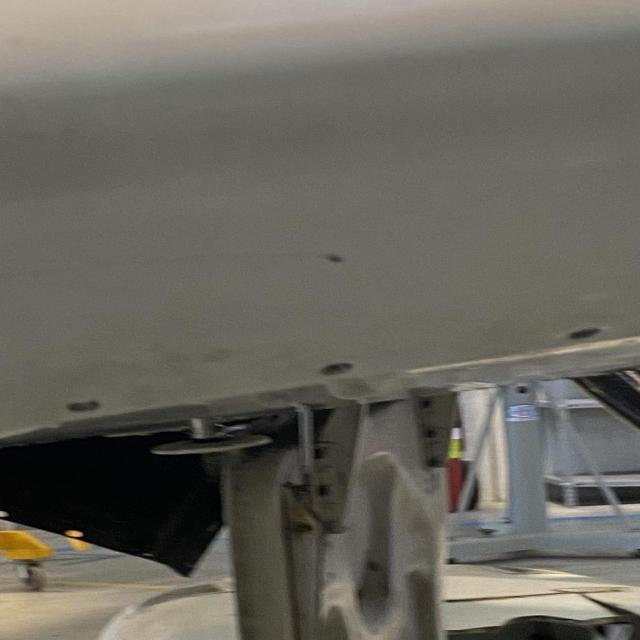Missing-head: (567, 326, 604, 342), (318, 362, 353, 377), (65, 400, 99, 414)
